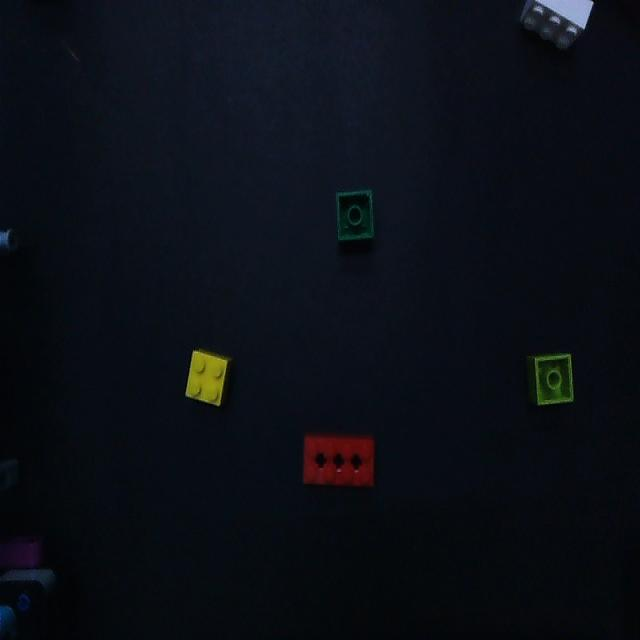lego_brick: (521, 0, 593, 48), (304, 437, 373, 484), (187, 351, 230, 405), (527, 353, 572, 403), (338, 191, 371, 239)
